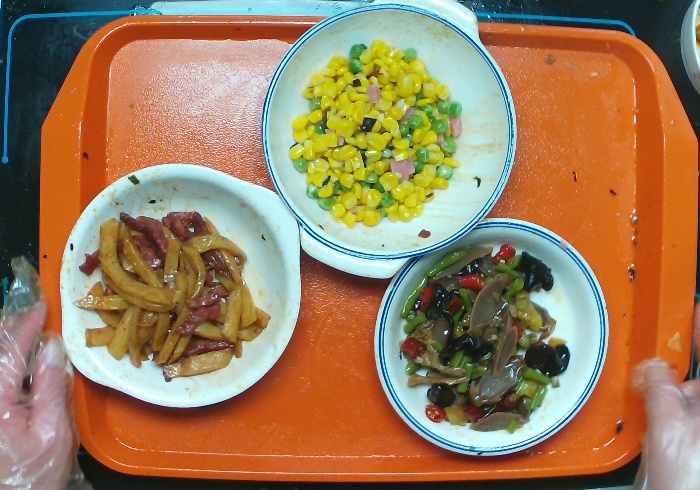HZYJPL-Dai_Er_Bai_Yuan_Wan: (57, 160, 303, 410)
HZYJPL-Lan_Bian_Dai_Er_Wan: (260, 1, 519, 280)
HZYJPL-Lan_Bian_Yuan_Die: (371, 216, 612, 458)
